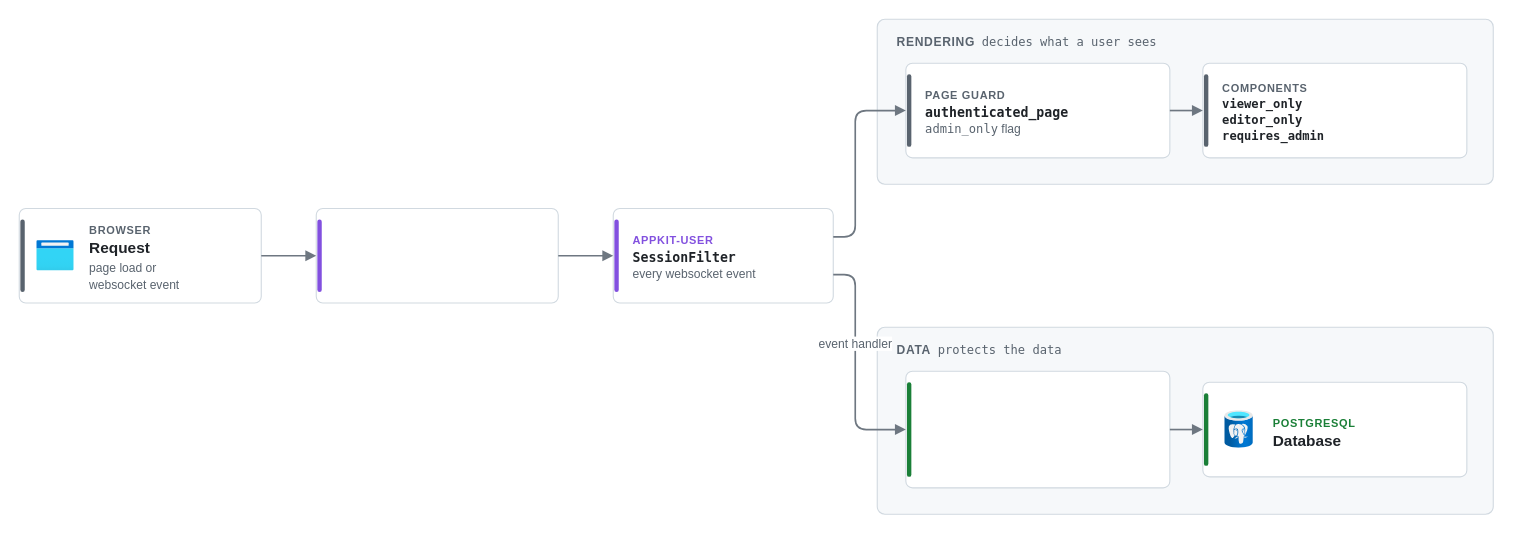
Image size: 1513x534. Some labels were removed from this diagram. Each missing label, with the centre of its shape:
APPKIT-USER SessionGuardMiddleware page loads only: the point at 436,255
HANDLER GUARD requires_viewer requires_editor requires_admin _can_edit: the point at 1037,429
